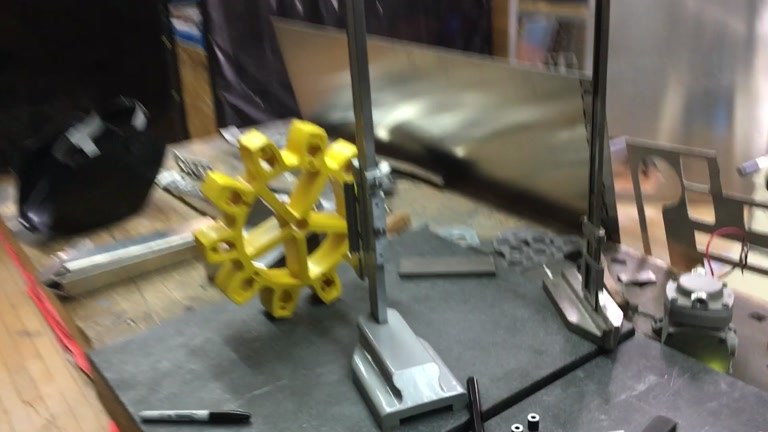gear: (191, 117, 380, 320)
